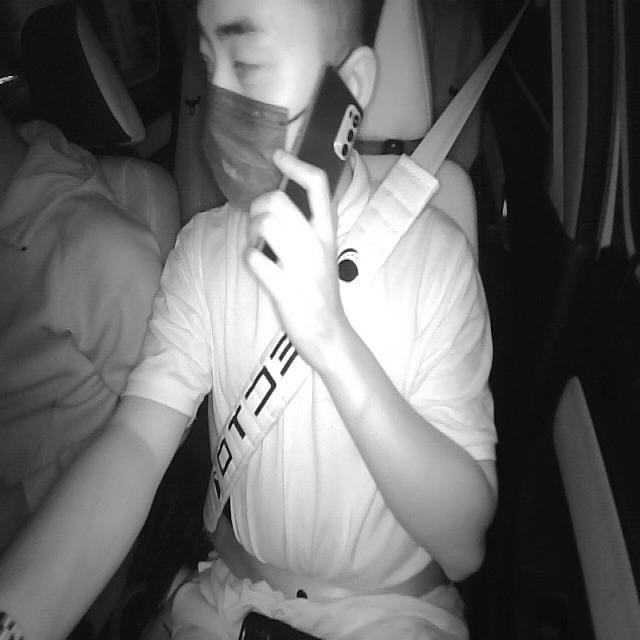phone: (269, 64, 367, 250)
